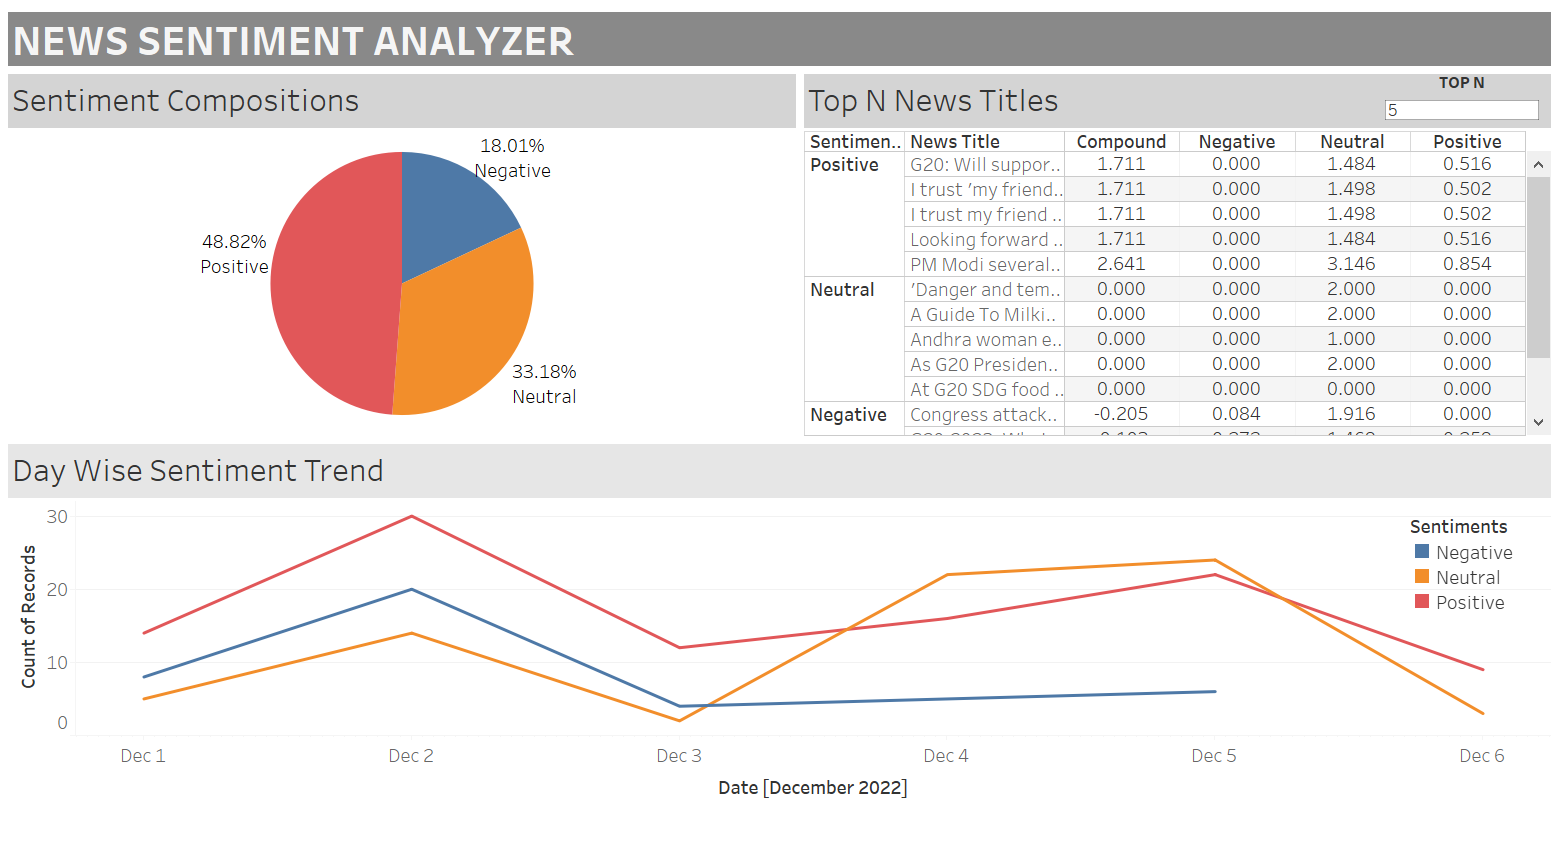

The page's visual inventory and layout, read from the dashboard file:
{"tool":"tableau","page":{"name":"Dashboard 1","canvas":[1567,818],"ordinal":0},"visuals":[{"type":"title","box":[8,8,1551,62]},{"type":"worksheet","title":"Sentiment Compositions","mark":"Pie","box":[8,70,796,369.9]},{"type":"worksheet","title":"Top N News Titles","mark":"Automatic","rows":["sentiments","newsTitle"],"box":[804,70,755,369.9]},{"type":"parameter","param":"[Parameters].[Parameter 1]","box":[1386,71,160,51]},{"type":"worksheet","title":"Day Wise Sentiment Trend","mark":"Automatic","rows":["export (1).csv_F751C2CCF0114743B40425DB36BA6063"],"cols":["timestamp"],"box":[8,439.9,1551,370.1]},{"type":"legend","title":"Sentiment Compositions","param":"[federated.18kwlw110cc50o1fx1qlk1snm4c0].[none:sentiments:nk]","box":[1414,513,140,101]}]}

Visuals, with their boxes on the page's 1567x818 design canvas (x1, y1, x2, y2). These are canvas units, not pixel positions in the 1564x859 screenshot, which may show the page scaled, cropped or inside an application window:
title: (x1=8, y1=8, x2=1559, y2=70)
"Sentiment Compositions" worksheet (Pie marks): (x1=8, y1=70, x2=804, y2=440)
"Top N News Titles" worksheet: (x1=804, y1=70, x2=1559, y2=440)
parameter: (x1=1386, y1=71, x2=1546, y2=122)
"Day Wise Sentiment Trend" worksheet: (x1=8, y1=440, x2=1559, y2=810)
"Sentiment Compositions" legend: (x1=1414, y1=513, x2=1554, y2=614)
